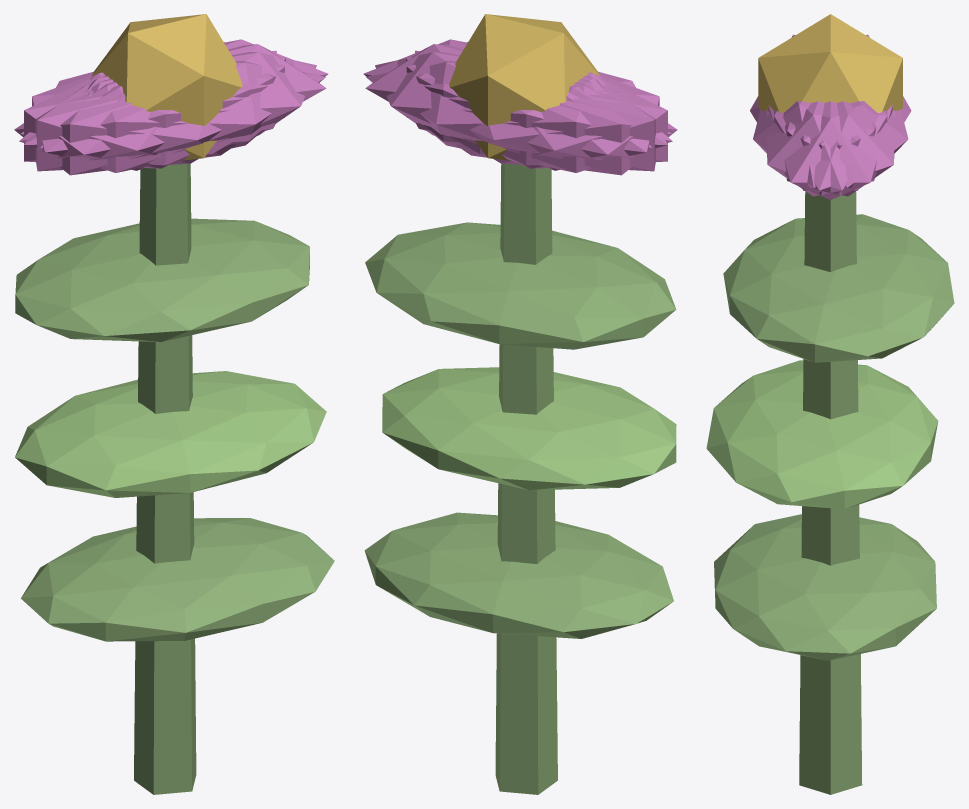
The model's file is helianthus-annuus.glb.
The picture shows the model from 3 angles, left to right: view 1: azimuth 30°, elevation 25°; view 2: azimuth 150°, elevation 25°; view 3: azimuth 270°, elevation 25°; orthographic projection.
Visible parts, largest first — view 1: leaf1, leaf0, leaf2, stem, center, petal1, petal6, petal2, petal5, petal7, petal0, petal4 (+2 smaller); view 2: leaf2, leaf1, leaf0, stem, center, petal8, petal3, petal7, petal4, petal2, petal0, petal5 (+2 smaller); view 3: leaf2, leaf1, leaf0, stem, center, petal0, petal5, petal4, petal8, petal1.
Part boxes in pixels (left/top/right/bottom): leaf1: left=15, top=371, right=326, bottom=497; leaf0: left=21, top=518, right=334, bottom=641; leaf2: left=15, top=218, right=309, bottom=342; stem: left=134, top=163, right=196, bottom=794; center: left=91, top=14, right=242, bottom=160; petal1: left=19, top=60, right=325, bottom=172; petal6: left=14, top=74, right=236, bottom=175; petal2: left=35, top=50, right=276, bottom=171; petal5: left=40, top=52, right=316, bottom=165; petal7: left=24, top=57, right=285, bottom=168; petal0: left=91, top=44, right=326, bottom=154; petal4: left=20, top=39, right=328, bottom=145; leaf2: left=365, top=222, right=676, bottom=349; leaf1: left=382, top=367, right=676, bottom=490; leaf0: left=364, top=512, right=673, bottom=638; stem: left=495, top=163, right=557, bottom=794; center: left=449, top=14, right=600, bottom=160; petal8: left=366, top=60, right=672, bottom=172; petal3: left=455, top=74, right=677, bottom=175; petal7: left=415, top=50, right=655, bottom=171; petal4: left=375, top=52, right=651, bottom=165; petal2: left=406, top=57, right=667, bottom=168; petal0: left=365, top=44, right=600, bottom=154; petal5: left=363, top=39, right=671, bottom=145; leaf2: left=723, top=214, right=954, bottom=362; leaf1: left=706, top=360, right=938, bottom=509; leaf0: left=714, top=514, right=936, bottom=660; stem: left=799, top=191, right=862, bottom=794; center: left=758, top=14, right=902, bottom=112; petal0: left=768, top=101, right=892, bottom=199; petal5: left=766, top=101, right=887, bottom=196; petal4: left=774, top=101, right=894, bottom=196; petal8: left=785, top=101, right=908, bottom=187; petal1: left=753, top=101, right=876, bottom=187.
Bounding box in the file's own units: 0.1452 × 0.3489 × 0.1048.
